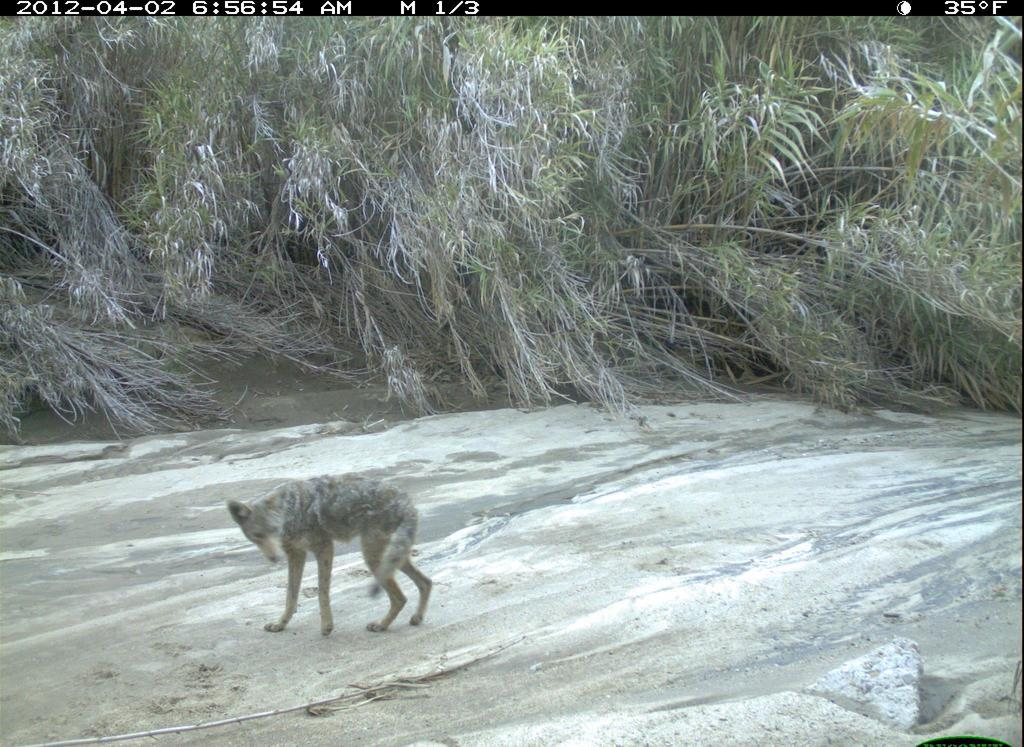coyote: (217, 466, 452, 647)
